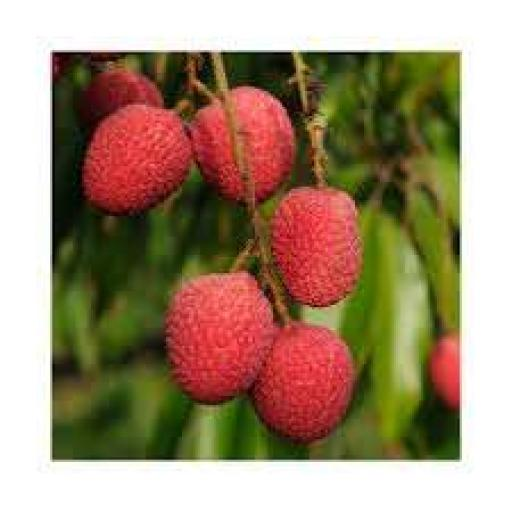lychee: (167, 271, 275, 402), (253, 324, 354, 443), (82, 105, 191, 213), (271, 187, 361, 307), (230, 87, 295, 200), (80, 69, 163, 127), (431, 335, 459, 409), (53, 53, 70, 81), (85, 53, 125, 63)
